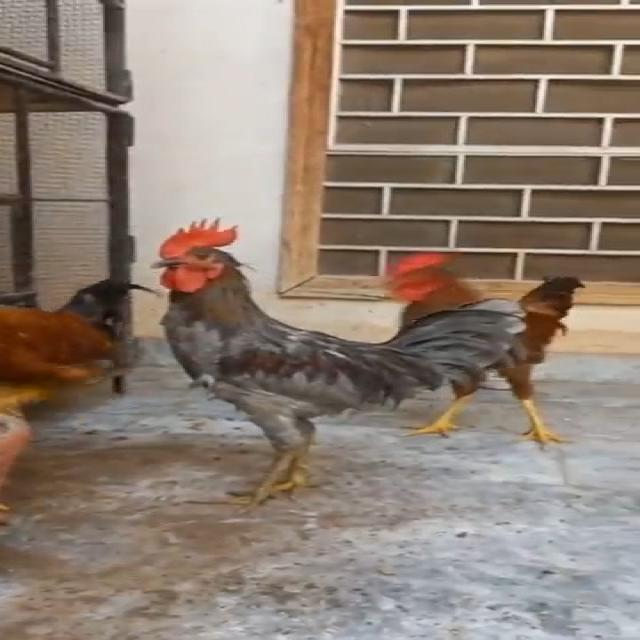walking: (132, 202, 522, 516)
